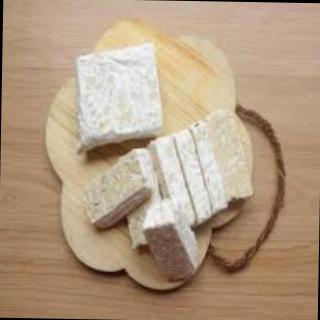Tempe: (71, 41, 165, 147), (80, 147, 156, 231)
